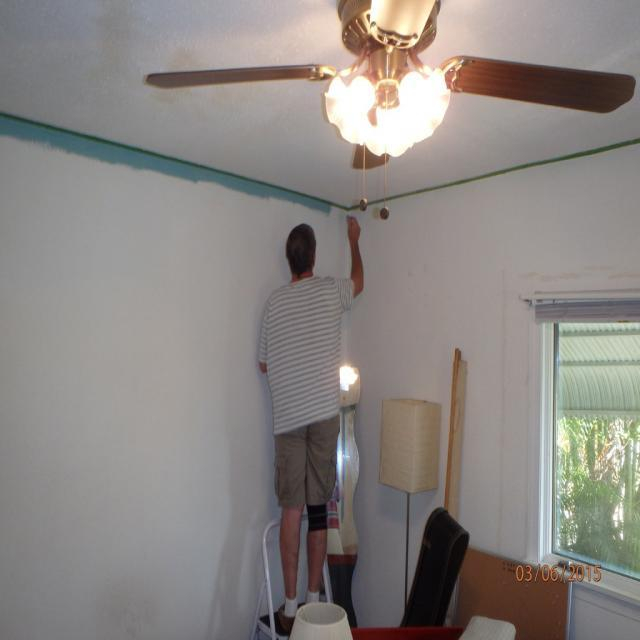fan_off: (144, 0, 639, 171)
